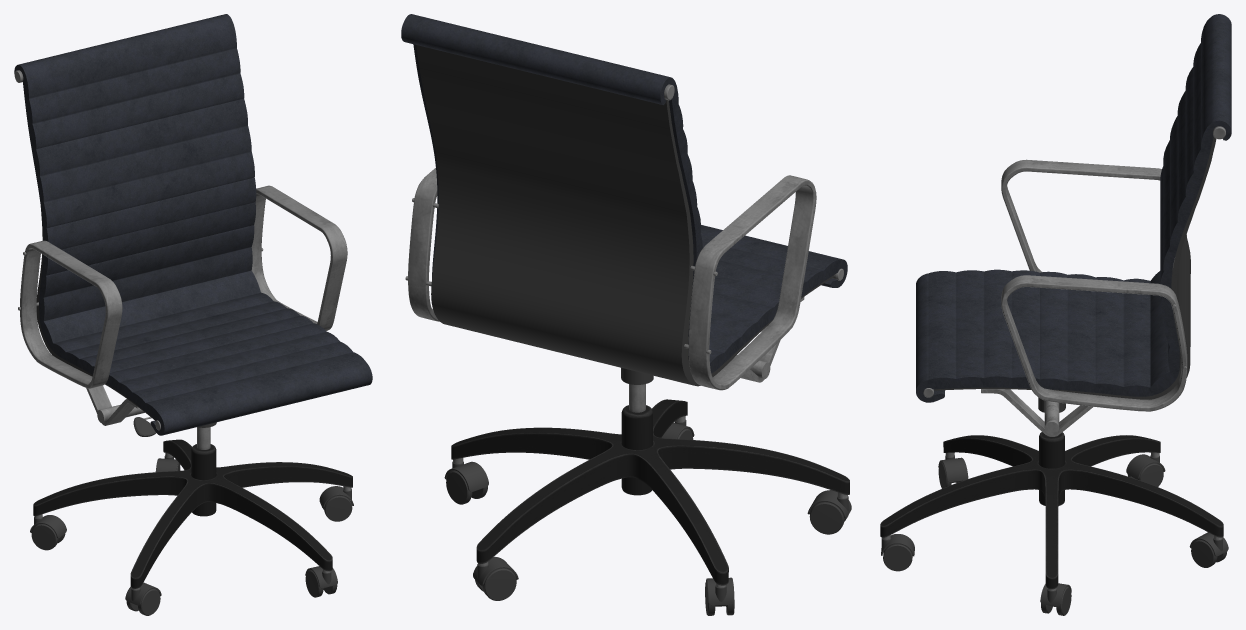
Rendered from Office-Gray-Chair.glb.
3 views of the same model, side by side, from view 1: azimuth 30°, elevation 25°; view 2: azimuth 150°, elevation 25°; view 3: azimuth 270°, elevation 25° (orthographic). The views are drawn at different scales.
Parts seen in each view (by area): view 1: Sm_Chair01; view 2: Sm_Chair01; view 3: Sm_Chair01.
Boxes of the visible parts, x1=… form: Sm_Chair01: x1=14, y1=14, x2=372, y2=615; Sm_Chair01: x1=401, y1=14, x2=851, y2=615; Sm_Chair01: x1=880, y1=14, x2=1231, y2=615.
Bounding box in the file's own units: 0.745 × 1.17 × 0.7807.
1 material, 1 textured.
